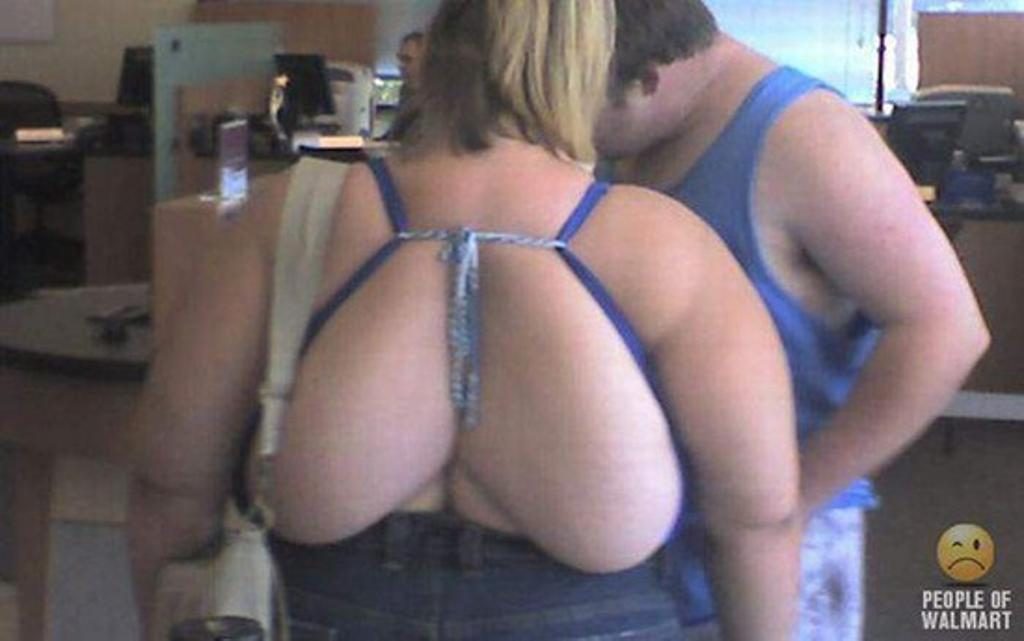face: (398, 42, 429, 89)
